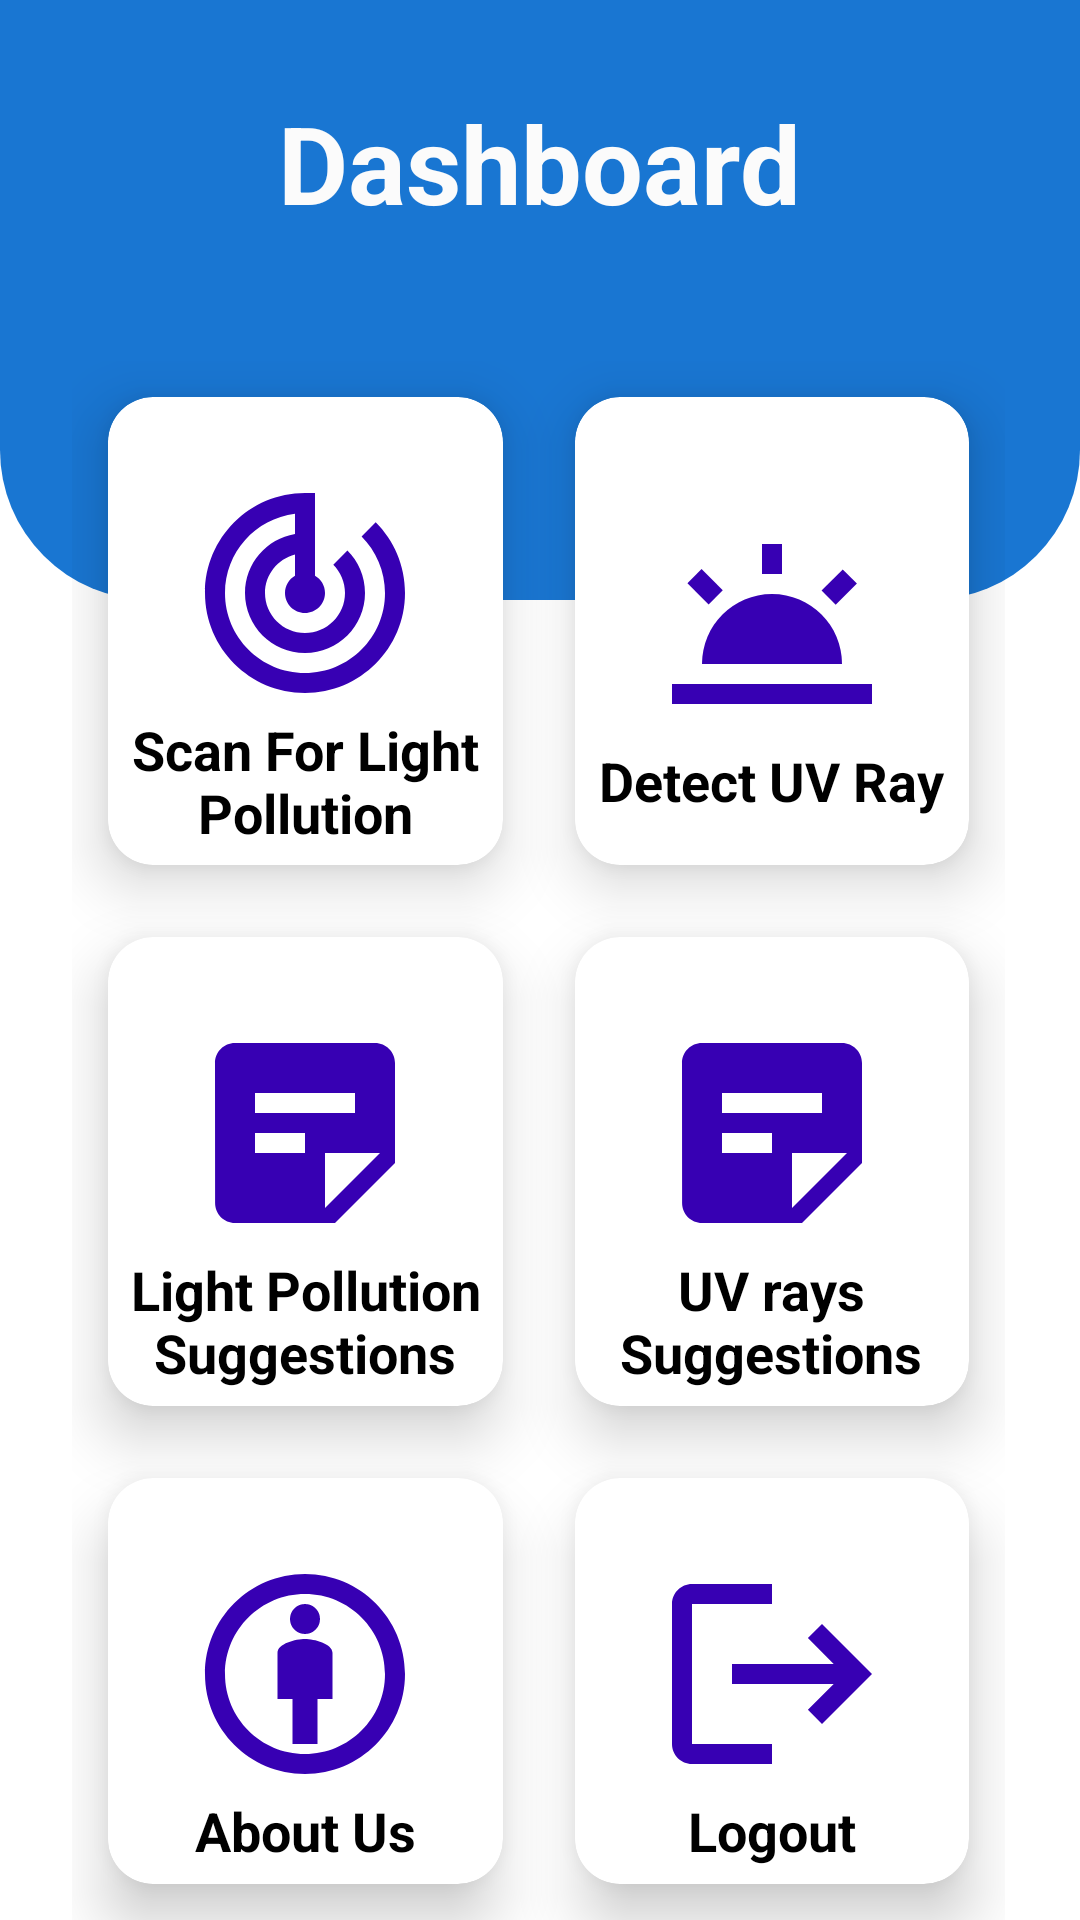

Icons on this 1080*1920 Android screen, each with its box as {"left": x1, "top": y1, "right": x2, "bottom": y2}:
track: {"left": 204, "top": 493, "right": 405, "bottom": 693}
